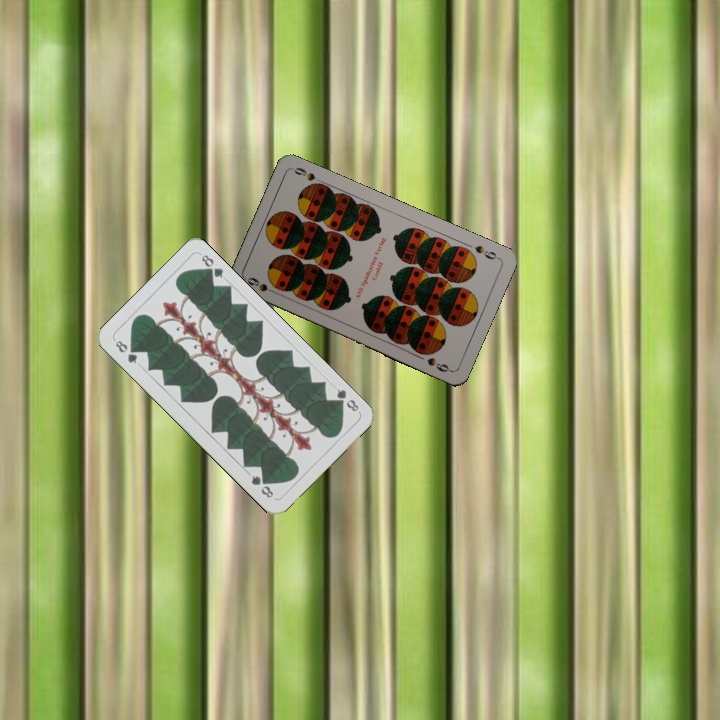G8: (111, 336, 140, 366), (331, 385, 361, 414)
S9: (243, 273, 281, 297), (470, 241, 502, 262)
